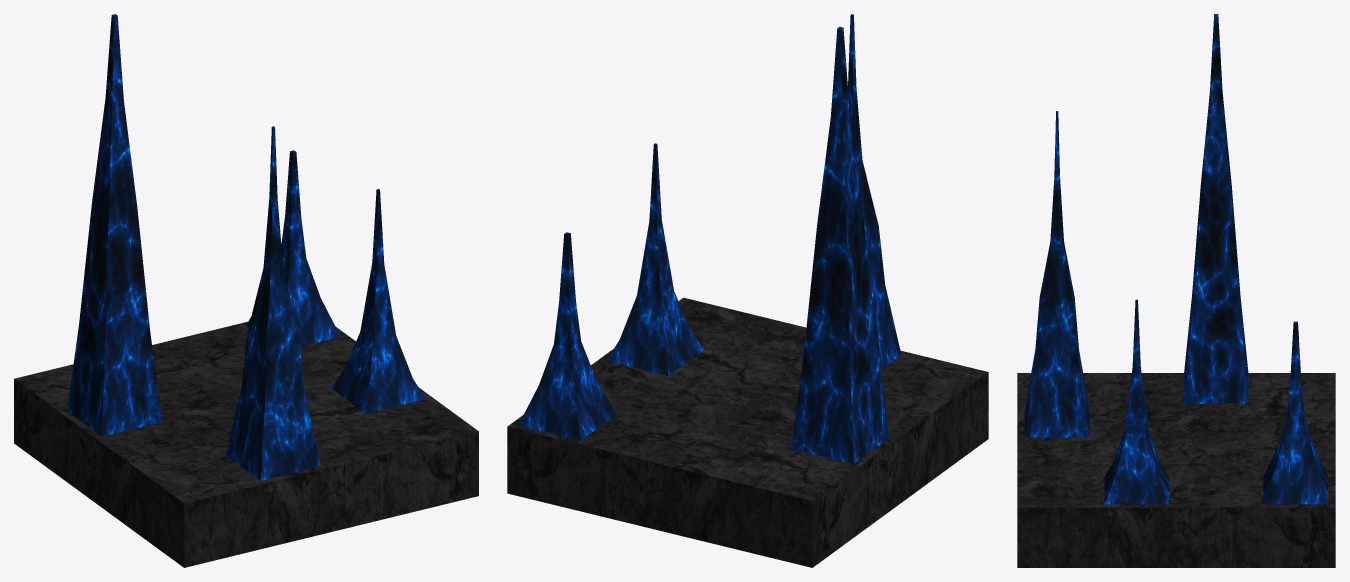
Rendered from EmptySpace2.fbx.
3 renders of one model, left to right at view 1: azimuth 30°, elevation 25°; view 2: azimuth 150°, elevation 25°; view 3: azimuth 270°, elevation 25°, orthographic. The views are drawn at different scales.
Parts seen in each view (by area): view 1: blankspace2; view 2: blankspace2; view 3: blankspace2.
Part boxes in pixels (x1=…): blankspace2: x1=14, y1=14, x2=478, y2=567; blankspace2: x1=507, y1=14, x2=988, y2=567; blankspace2: x1=1017, y1=14, x2=1335, y2=567.
Size of the model in its own units: 100 by 151 by 100.
2 materials, 2 textured.
